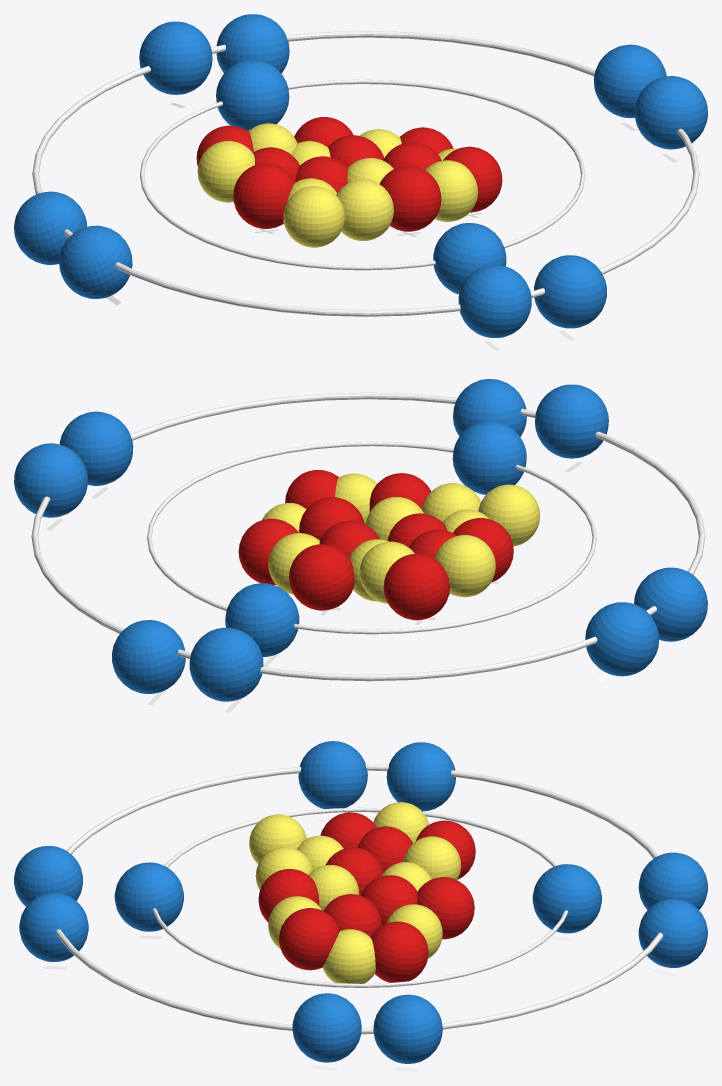
3 renders of one model, top to bottom at view 1: azimuth 30°, elevation 25°; view 2: azimuth 150°, elevation 25°; view 3: azimuth 270°, elevation 25°, orthographic. The views are drawn at different scales.
Visible parts, largest first — view 1: Torus.002, Torus.001, -.008, -.004, -.005, -.003, -.002, -.001, -.006, -.007, -, -.009 (+18 smaller); view 2: Torus.002, Torus.001, -.004, -.008, -.009, -.006, -.007, -, -.003, -.001, -.002, f.009 (+19 smaller); view 3: Torus.002, Torus.001, -.002, -.007, -.003, -, -.001, -.006, -.009, -.005, -.008, -.004 (+20 smaller).
Part boxes in pixels (<box>): Torus.002: <box>32,31,699,316</box>; Torus.001: <box>140,79,585,270</box>; -.008: <box>458,265,531,337</box>; -.004: <box>139,21,212,94</box>; -.005: <box>534,255,606,328</box>; -.003: <box>59,225,132,298</box>; -.002: <box>635,76,707,149</box>; -.001: <box>216,59,289,130</box>; -.006: <box>14,191,86,264</box>; -.007: <box>594,44,666,118</box>; -: <box>433,223,506,294</box>; -.009: <box>216,14,289,73</box>; Torus.002: <box>31,392,705,681</box>; Torus.001: <box>147,441,596,634</box>; -.004: <box>189,627,263,701</box>; -.008: <box>535,384,608,458</box>; -.009: <box>112,620,185,693</box>; -.006: <box>585,602,659,676</box>; -.007: <box>14,443,87,517</box>; -: <box>452,421,526,494</box>; -.003: <box>634,567,707,641</box>; -.001: <box>225,583,299,657</box>; -.002: <box>59,411,133,485</box>; f.009: <box>383,553,449,620</box>; Torus.002: <box>55,764,663,1034</box>; Torus.001: <box>152,807,568,987</box>; -.002: <box>292,993,361,1062</box>; -.007: <box>373,994,442,1063</box>; -.003: <box>298,741,367,809</box>; -: <box>114,862,183,931</box>; -.001: <box>532,864,601,933</box>; -.006: <box>386,742,455,811</box>; -.009: <box>638,898,707,967</box>; -.005: <box>19,893,88,961</box>; -.008: <box>14,846,82,906</box>; -.004: <box>638,852,707,909</box>.
Size of the model in its own units: 4.67 by 0.6966 by 4.66.
